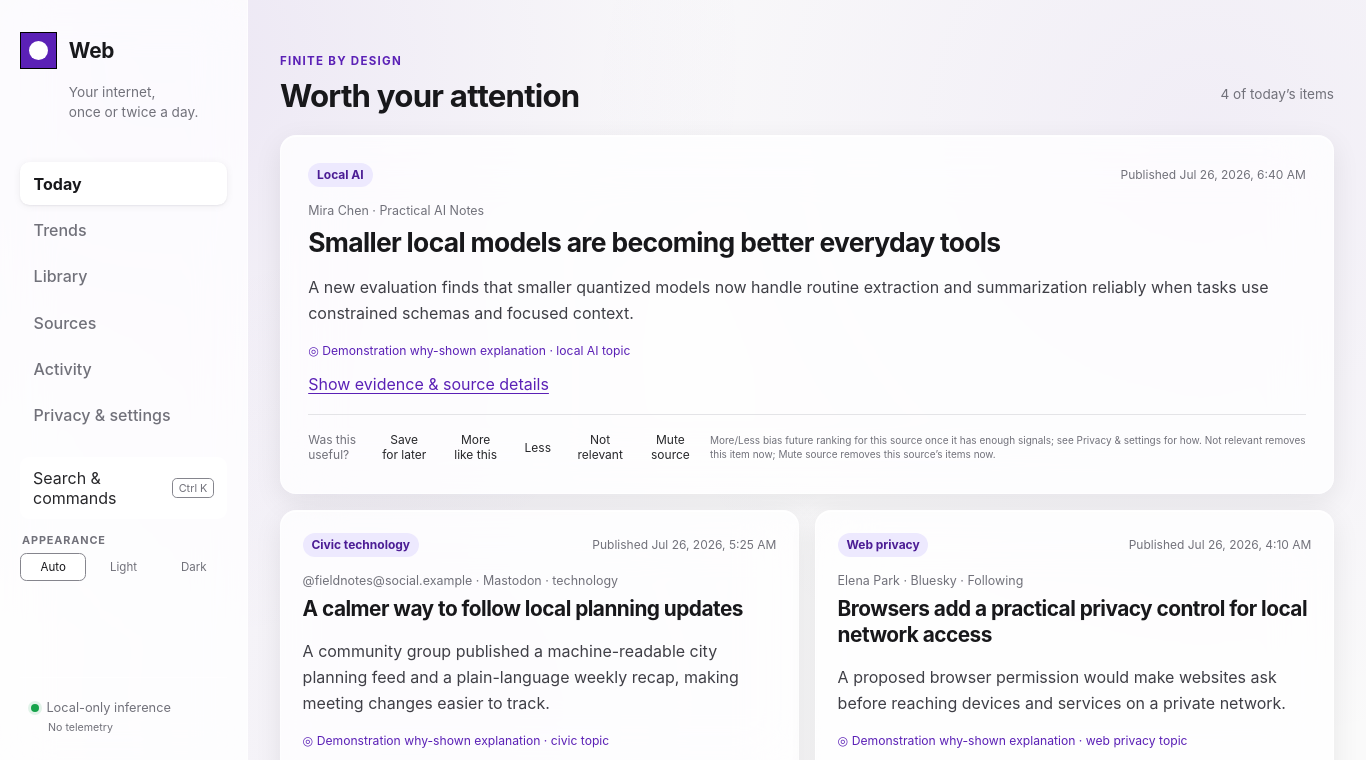
Test: calm dashboard › keeps HTTP and absent evidence URLs non-operable
(page scrolled)
Click the button with aria-label "Show evidence for Smaller local models". click: x=429, y=384
box: [308, 370, 549, 398]
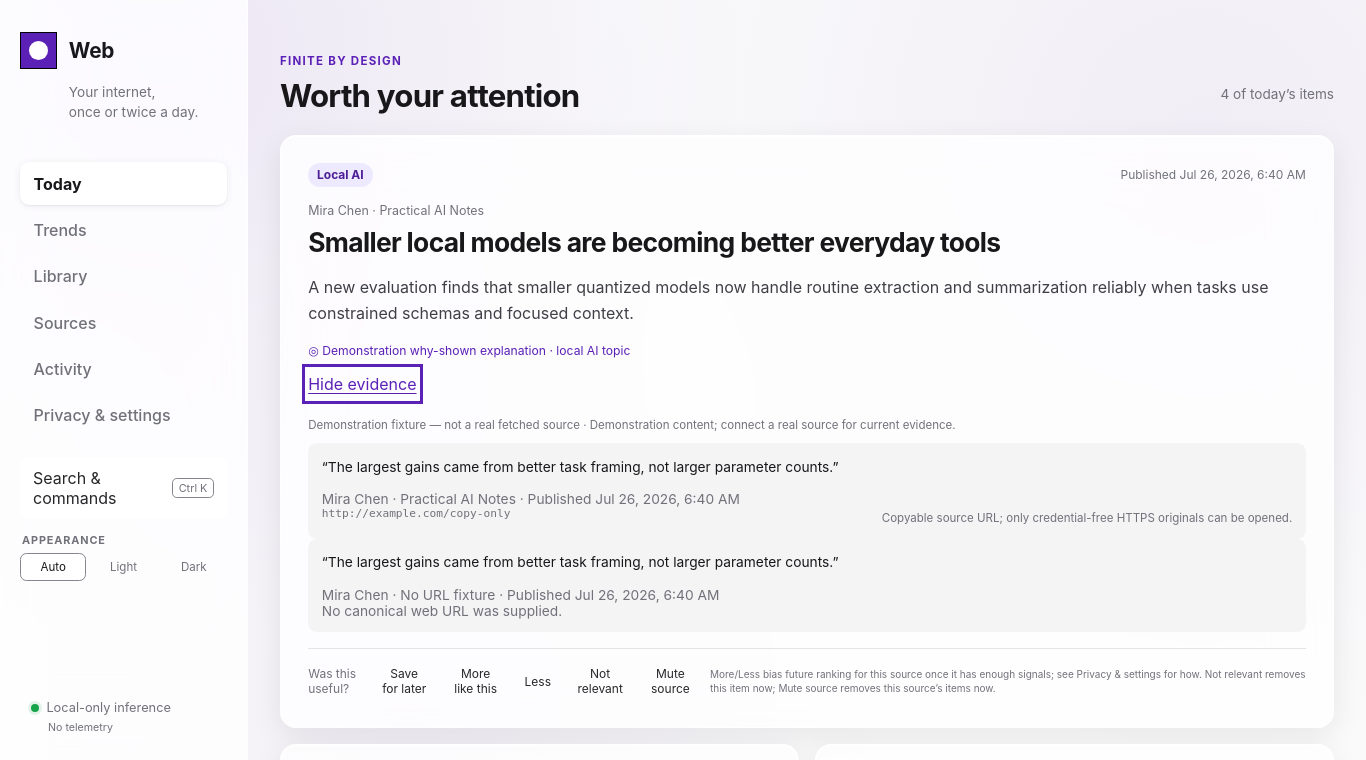
Check: the text "http://example.com/copy-only" is shown, box [322, 507, 510, 520]
Check: the text "No canonical web URL was supplied." is shown, box [322, 603, 562, 619]
